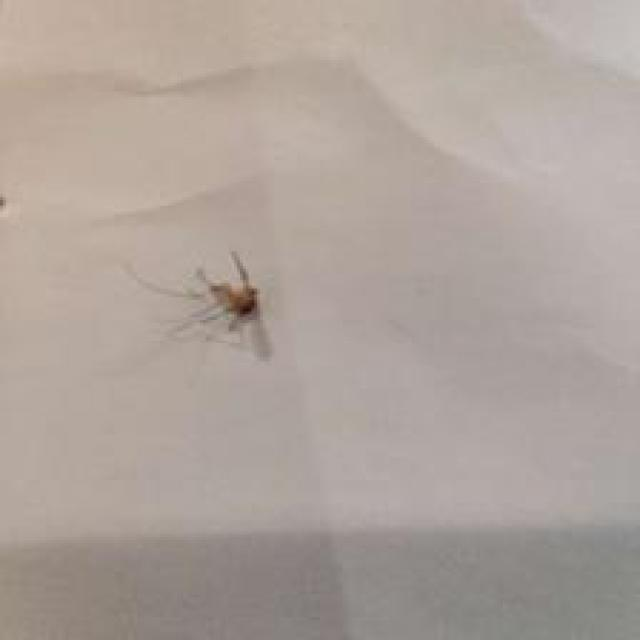Culex: (123, 248, 274, 363)
